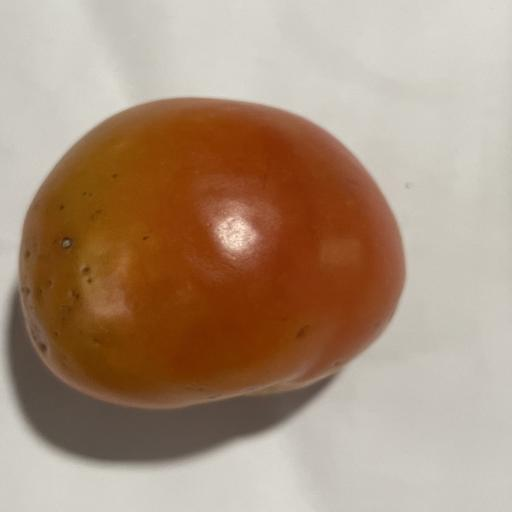overipe: (20, 99, 404, 409)
